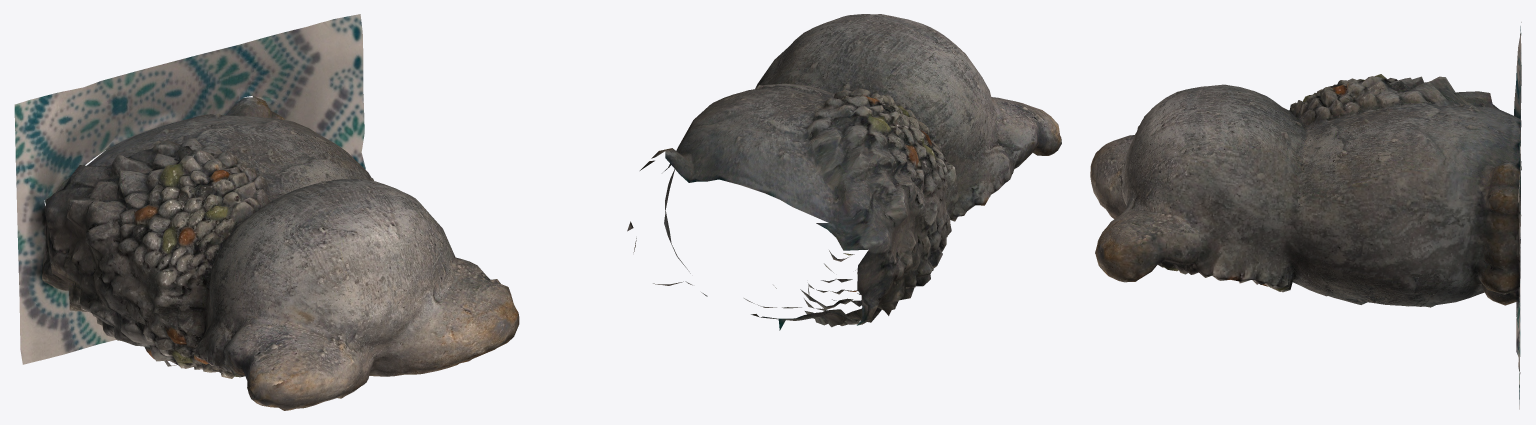
Rendered from owl.gltf.
The picture shows the model from 3 angles, left to right: view 1: azimuth 30°, elevation 25°; view 2: azimuth 150°, elevation 25°; view 3: azimuth 270°, elevation 25°; orthographic projection. The views are drawn at different scales.
Parts seen in each view (by area): view 1: texture_0; view 2: texture_0; view 3: texture_0.
Boxes of the visible parts, x1,y1,x2,y2 form: texture_0: [14, 14, 519, 410]; texture_0: [627, 14, 1061, 330]; texture_0: [1090, 22, 1521, 409].
Size of the model in its own units: 0.2734 by 0.1998 by 0.3076.
1 material, 1 textured.
